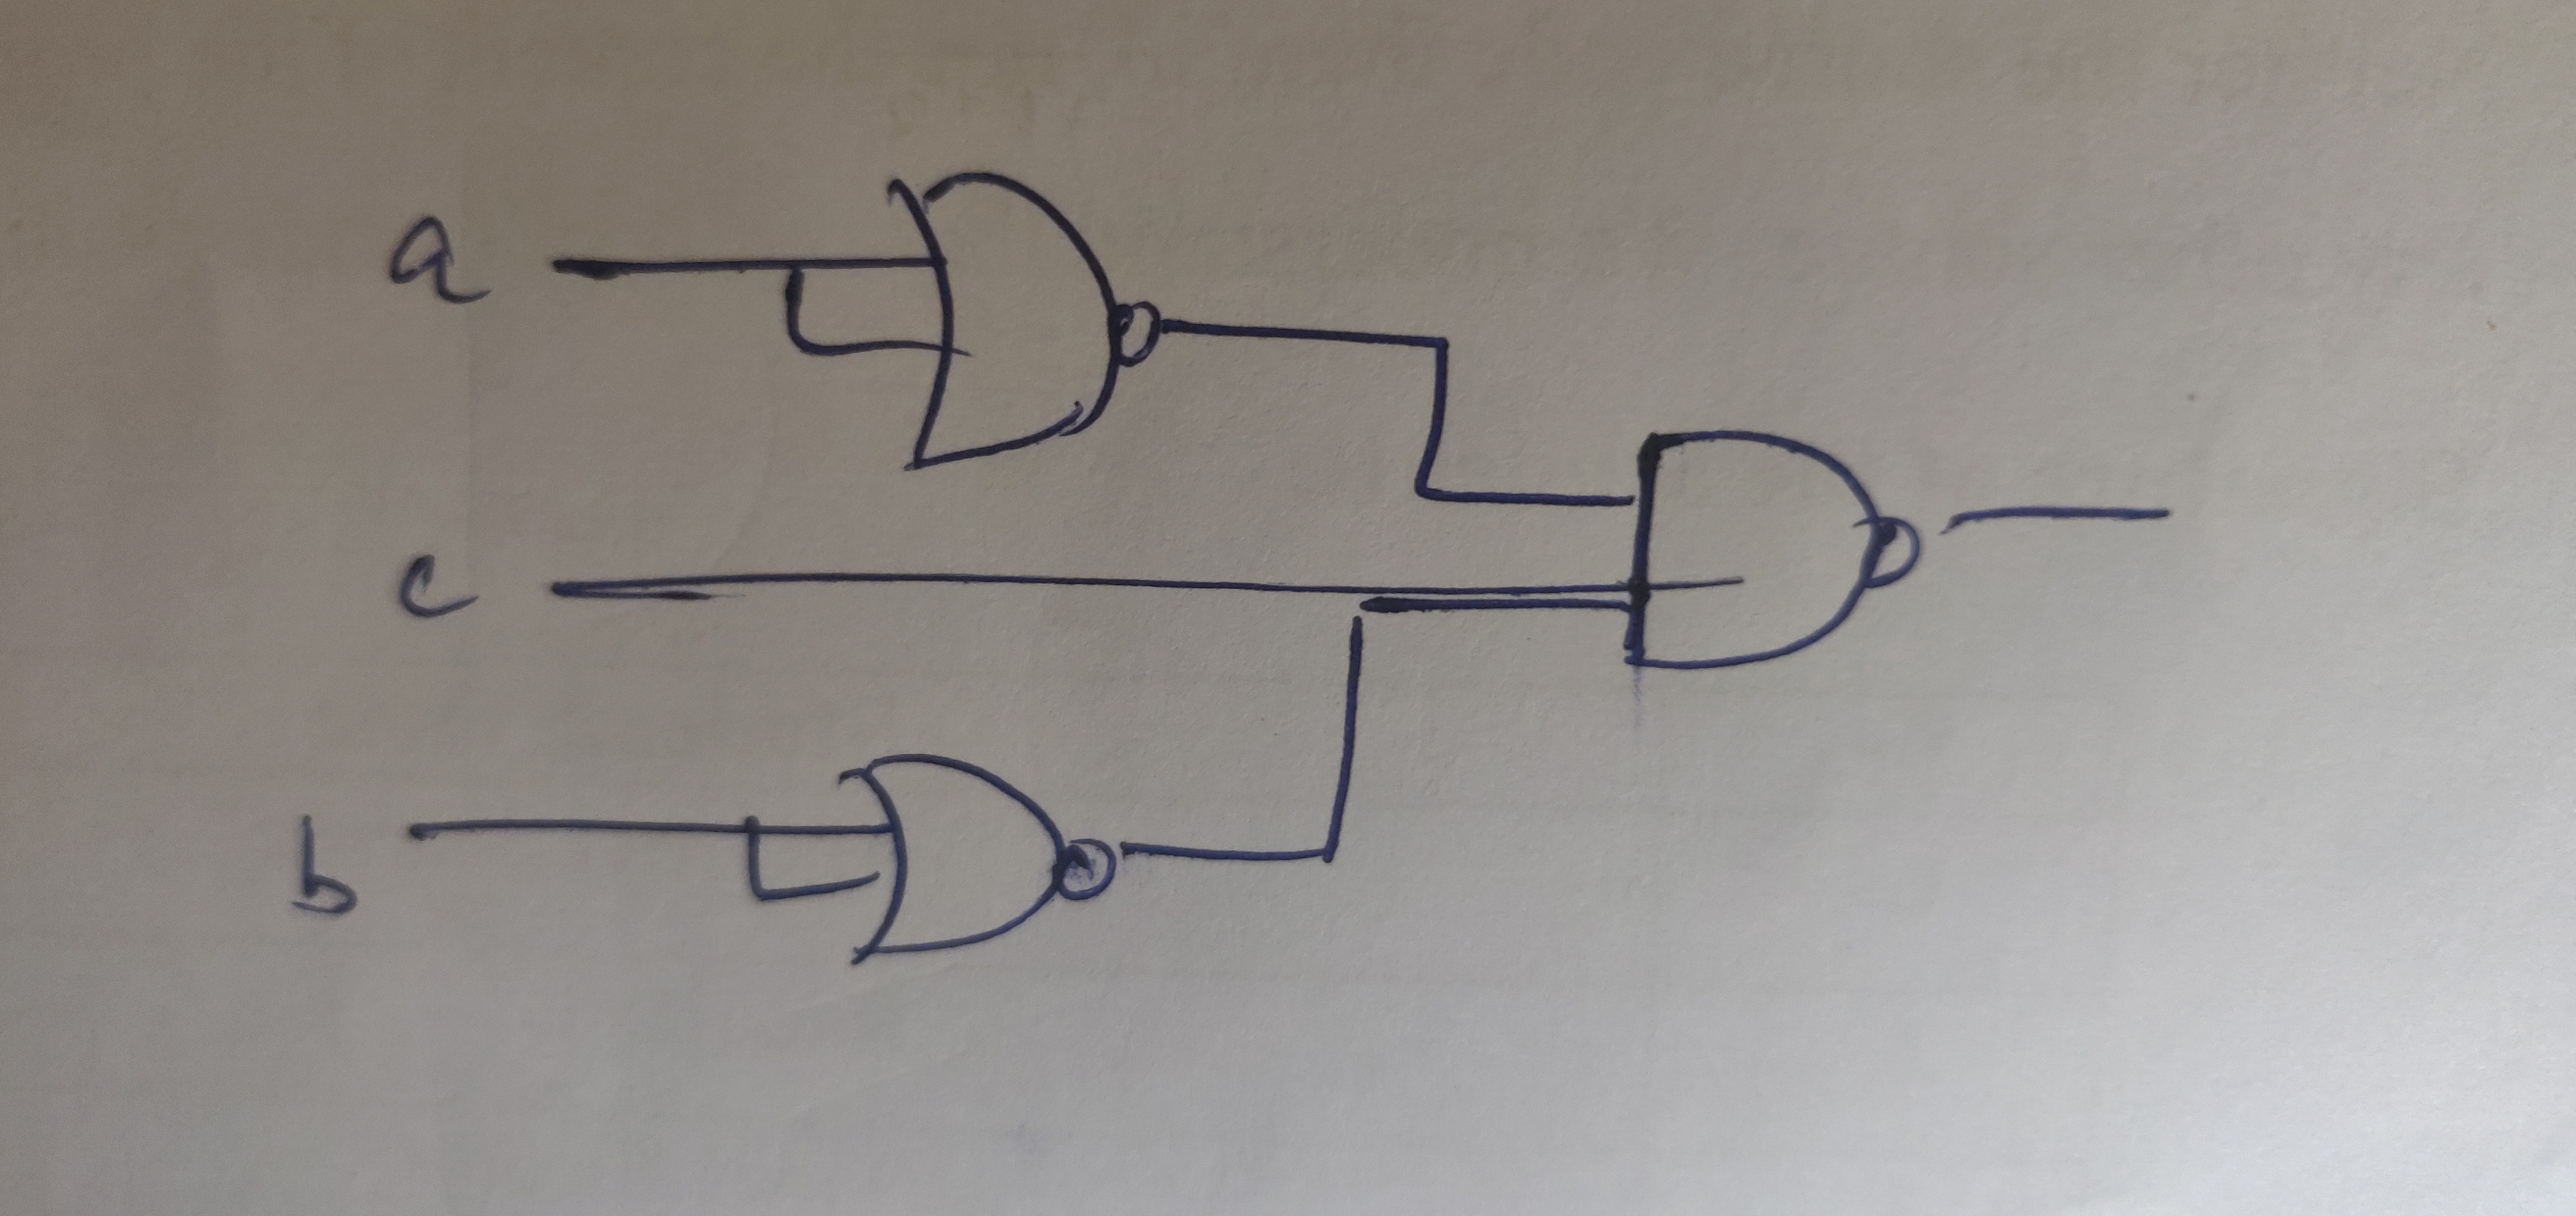nand: (1561, 388, 1988, 736)
nor: (838, 141, 1193, 529), (795, 726, 1163, 1019)
